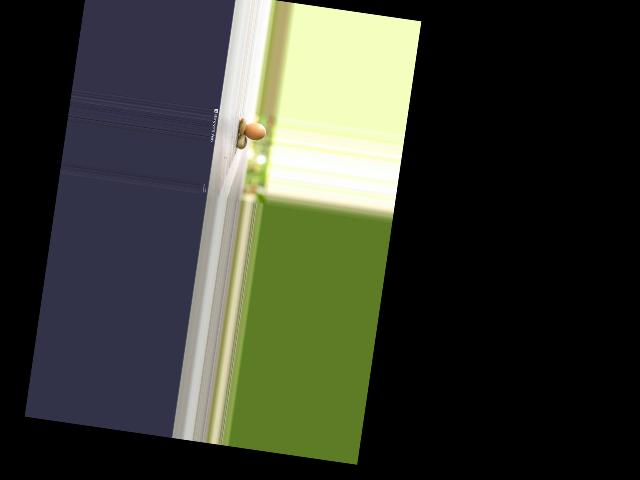egg: (243, 121, 266, 141)
